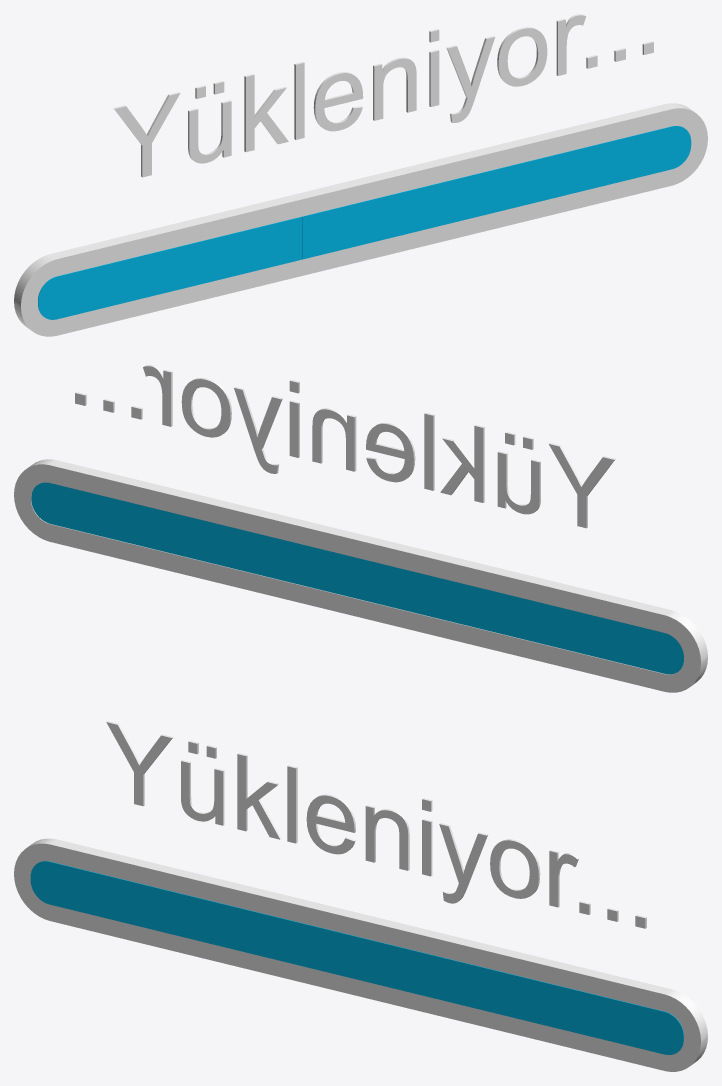
The picture shows the model from 3 angles, top to bottom: view 1: azimuth 30°, elevation 25°; view 2: azimuth 150°, elevation 25°; view 3: azimuth 330°, elevation 25°; orthographic projection.
Visible parts, largest first — view 1: loadingbarmesh, yukleniyor, bar3, bar2, bar1, bar4, bar5; view 2: loadingbarmesh, yukleniyor, bar3, bar2, bar1, bar4, bar5; view 3: loadingbarmesh, yukleniyor, bar3, bar2, bar1, bar4, bar5.
Boxes of the visible parts, x1,y1,x2,y2 form: loadingbarmesh: [14, 103, 707, 336]; yukleniyor: [113, 14, 653, 177]; bar3: [302, 182, 442, 259]; bar2: [167, 216, 302, 292]; bar1: [38, 249, 166, 319]; bar4: [442, 152, 566, 225]; bar5: [566, 126, 691, 194]; loadingbarmesh: [14, 459, 707, 692]; yukleniyor: [75, 365, 615, 528]; bar3: [280, 539, 419, 613]; bar2: [420, 573, 555, 646]; bar1: [555, 606, 683, 674]; bar4: [156, 509, 279, 579]; bar5: [31, 482, 156, 549]; loadingbarmesh: [14, 838, 707, 1071]; yukleniyor: [106, 721, 646, 928]; bar3: [295, 921, 434, 998]; bar2: [159, 888, 294, 964]; bar1: [30, 861, 159, 930]; bar4: [435, 955, 558, 1028]; bar5: [558, 986, 683, 1054].
Size of the model in its own units: 0.2427 by 0.0722 by 0.00474.
